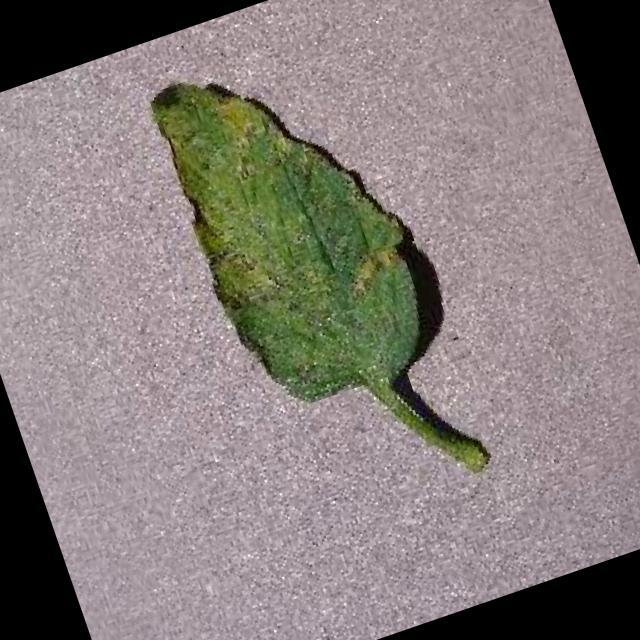Tomato Septoria spot leaf: (143, 29, 440, 420)
